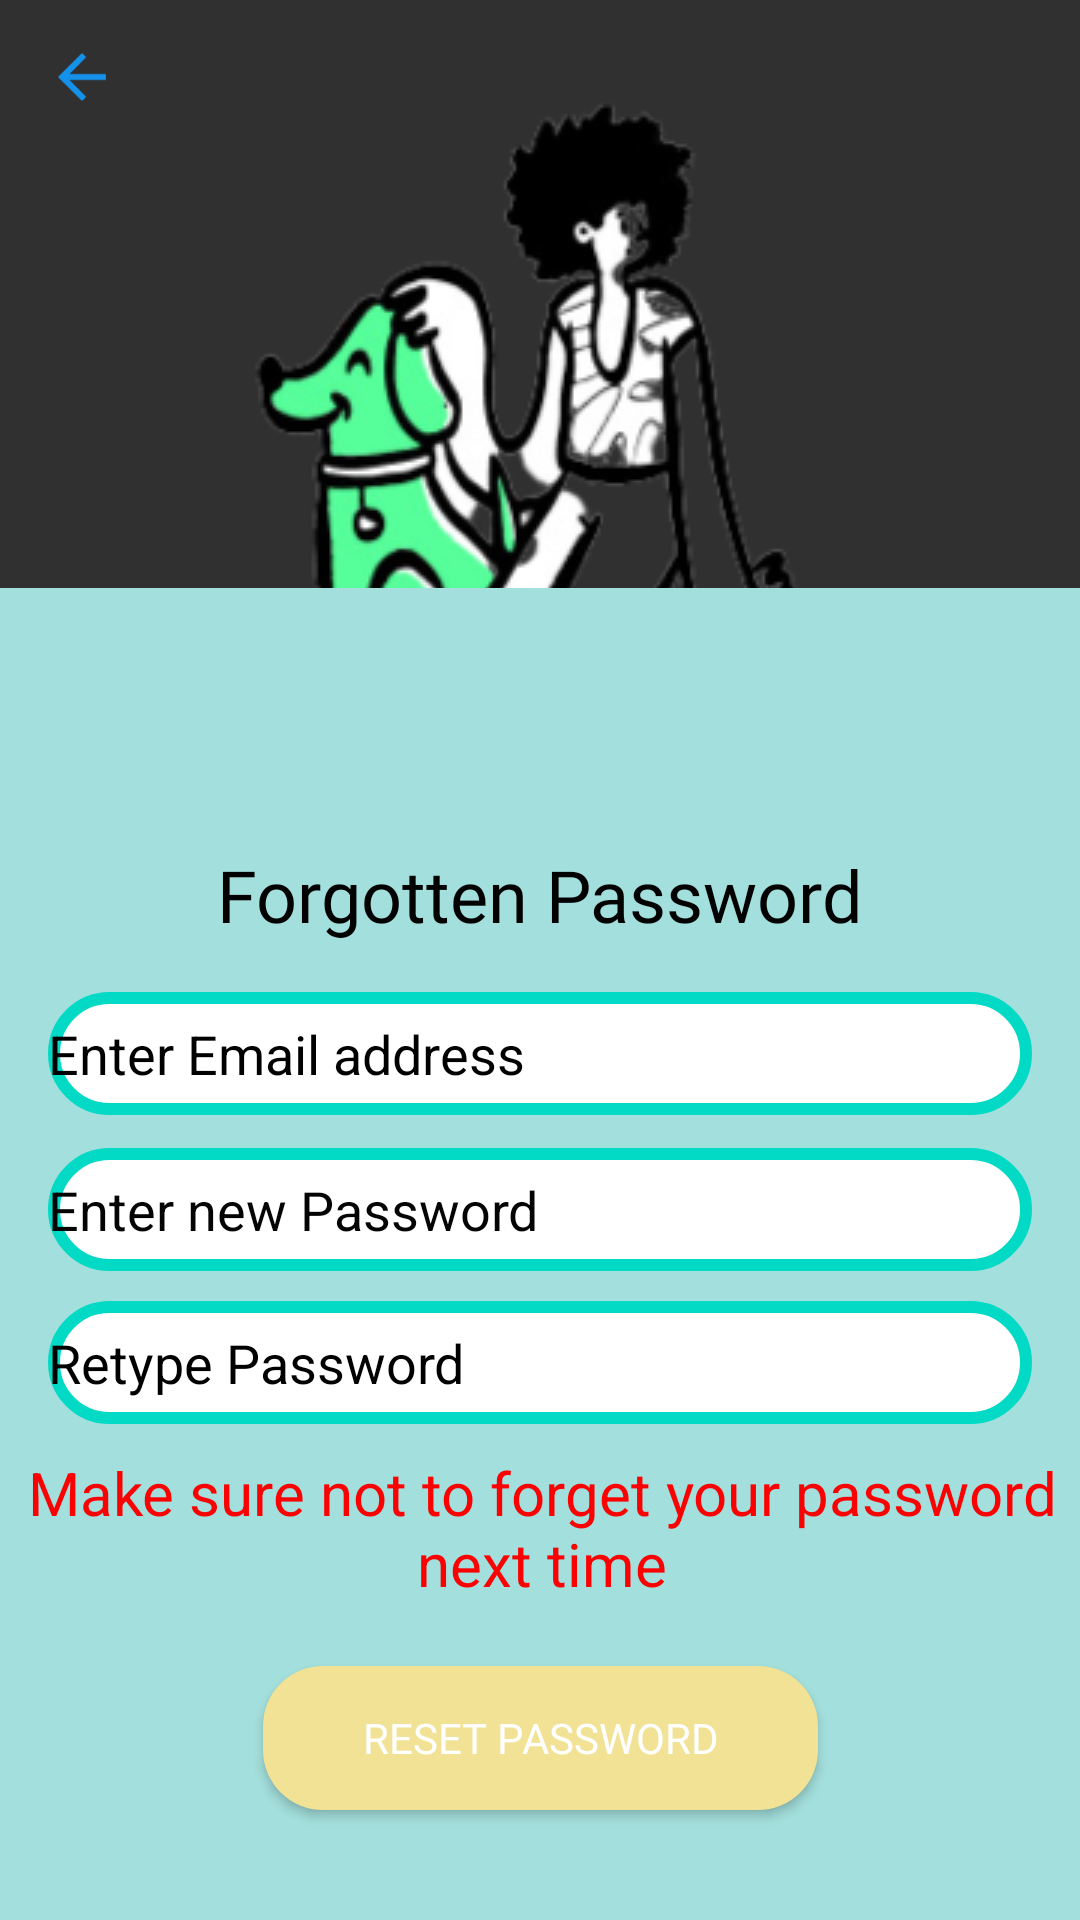

Icon click points for this 1080*1920 phone screenshot, format (x=x, y=y):
arrow back: (x=82, y=77)
